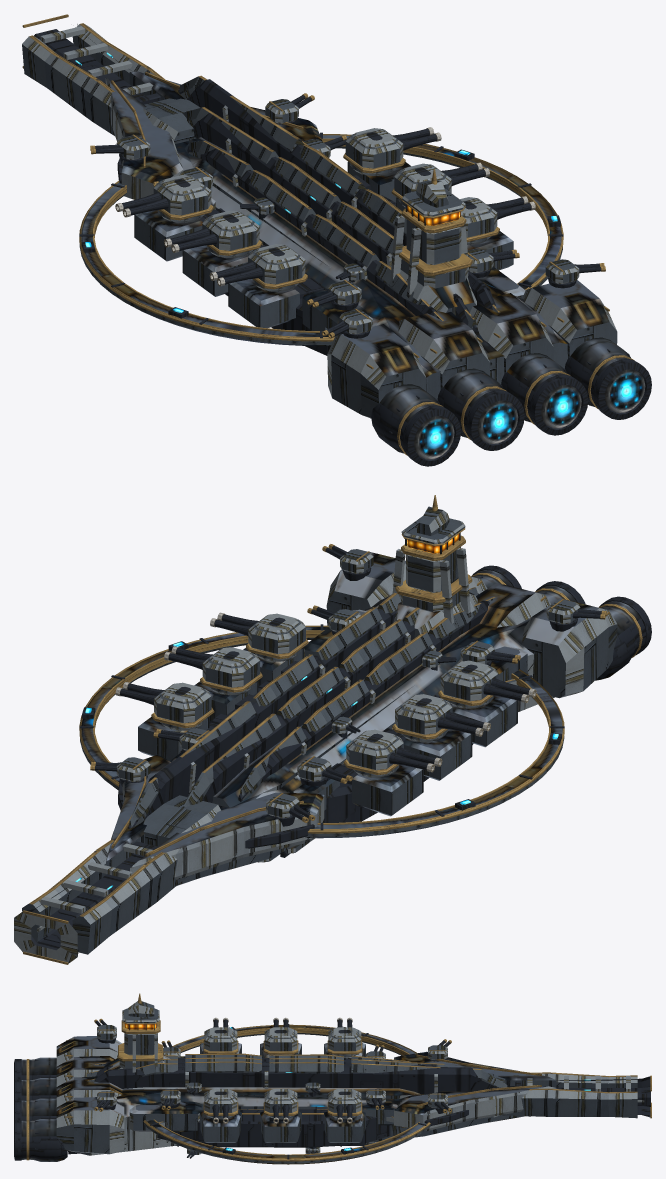
File: authority-arbiter-dark.glb
The picture shows the model from 3 angles, top to bottom: view 1: azimuth 30°, elevation 25°; view 2: azimuth 150°, elevation 25°; view 3: azimuth 270°, elevation 25°; orthographic projection. The views are drawn at different scales.
Visible parts, largest first — view 1: hull / Authority ivory, navy and antique gold, interdiction-halo / Authority ivory, navy and antique gold, turret-starboard-1 / Authority ivory, navy and antique gold, turret-port-1 / Authority ivory, navy and antique gold, turret-port-3 / Authority ivory, navy and antique gold, turret-port-2 / Authority ivory, navy and antique gold, turret-starboard-3 / Authority ivory, navy and antique gold, turret-starboard-2 / Authority ivory, navy and antique gold, secondary-starboard-4 / Authority ivory, navy and antique go, secondary-port-1 / Authority ivory, navy and antique gold, secondary-port-3 / Authority ivory, navy and antique gold, secondary-port-4 / Authority ivory, navy and antique gold (+2 smaller); view 2: hull / Authority ivory, navy and antique gold, interdiction-halo / Authority ivory, navy and antique gold, turret-starboard-2 / Authority ivory, navy and antique gold, turret-starboard-1 / Authority ivory, navy and antique gold, turret-starboard-3 / Authority ivory, navy and antique gold, turret-port-3 / Authority ivory, navy and antique gold, turret-port-1 / Authority ivory, navy and antique gold, turret-port-2 / Authority ivory, navy and antique gold, secondary-starboard-1 / Authority ivory, navy and antique go, secondary-port-4 / Authority ivory, navy and antique gold, secondary-port-2 / Authority ivory, navy and antique gold, secondary-starboard-4 / Authority ivory, navy and antique go (+3 smaller); view 3: hull / Authority ivory, navy and antique gold, interdiction-halo / Authority ivory, navy and antique gold, turret-port-2 / Authority ivory, navy and antique gold, turret-port-1 / Authority ivory, navy and antique gold, turret-port-3 / Authority ivory, navy and antique gold, turret-starboard-2 / Authority ivory, navy and antique gold, turret-starboard-1 / Authority ivory, navy and antique gold, turret-starboard-3 / Authority ivory, navy and antique gold, hull / Ventral hangar and keel plating, secondary-port-4 / Authority ivory, navy and antique gold, secondary-starboard-1 / Authority ivory, navy and antique go, secondary-starboard-3 / Authority ivory, navy and antique go (+4 smaller).
Boxes of the visible parts, x1,y1,x2,y2 form: hull / Authority ivory, navy and antique gold: (22,14,651,466); interdiction-halo / Authority ivory, navy and antique gold: (79,132,563,344); turret-starboard-1 / Authority ivory, navy and antique gold: (343,127,441,173); turret-port-1 / Authority ivory, navy and antique gold: (115,175,213,220); turret-port-3 / Authority ivory, navy and antique gold: (209,244,307,289); turret-port-2 / Authority ivory, navy and antique gold: (164,210,262,255); turret-starboard-3 / Authority ivory, navy and antique gold: (460,196,535,242); turret-starboard-2 / Authority ivory, navy and antique gold: (391,162,489,200); secondary-starboard-4 / Authority ivory, navy and antique go: (545,259,605,283); secondary-port-1 / Authority ivory, navy and antique gold: (90,134,150,159); secondary-port-3 / Authority ivory, navy and antique gold: (307,280,361,307); secondary-port-4 / Authority ivory, navy and antique gold: (321,309,372,338); hull / Authority ivory, navy and antique gold: (14,495,651,964); interdiction-halo / Authority ivory, navy and antique gold: (79,624,564,836); turret-starboard-2 / Authority ivory, navy and antique gold: (164,646,262,692); turret-starboard-1 / Authority ivory, navy and antique gold: (115,682,214,728); turret-starboard-3 / Authority ivory, navy and antique gold: (210,612,308,658); turret-port-3 / Authority ivory, navy and antique gold: (438,660,536,705); turret-port-1 / Authority ivory, navy and antique gold: (343,729,442,775); turret-port-2 / Authority ivory, navy and antique gold: (392,694,490,739); secondary-starboard-1 / Authority ivory, navy and antique go: (90,757,150,781); secondary-port-4 / Authority ivory, navy and antique gold: (546,599,606,624); secondary-port-2 / Authority ivory, navy and antique gold: (297,756,352,783); secondary-starboard-4 / Authority ivory, navy and antique go: (322,544,373,573); hull / Authority ivory, navy and antique gold: (14,993,651,1160); interdiction-halo / Authority ivory, navy and antique gold: (143,1024,430,1163); turret-port-2 / Authority ivory, navy and antique gold: (263,1017,298,1054); turret-port-1 / Authority ivory, navy and antique gold: (327,1017,362,1054); turret-port-3 / Authority ivory, navy and antique gold: (203,1017,238,1053); turret-starboard-2 / Authority ivory, navy and antique gold: (263,1089,298,1123); turret-starboard-1 / Authority ivory, navy and antique gold: (327,1089,362,1123); turret-starboard-3 / Authority ivory, navy and antique gold: (203,1089,238,1123); hull / Ventral hangar and keel plating: (21,1116,524,1161); secondary-port-4 / Authority ivory, navy and antique gold: (94,1018,116,1039); secondary-starboard-1 / Authority ivory, navy and antique go: (428,1093,451,1113); secondary-starboard-3 / Authority ivory, navy and antique go: (160,1089,180,1110).
Size of the model in its own units: 13.72 by 6.91 by 27.44.
Materials: 2 (2 with a texture image).
